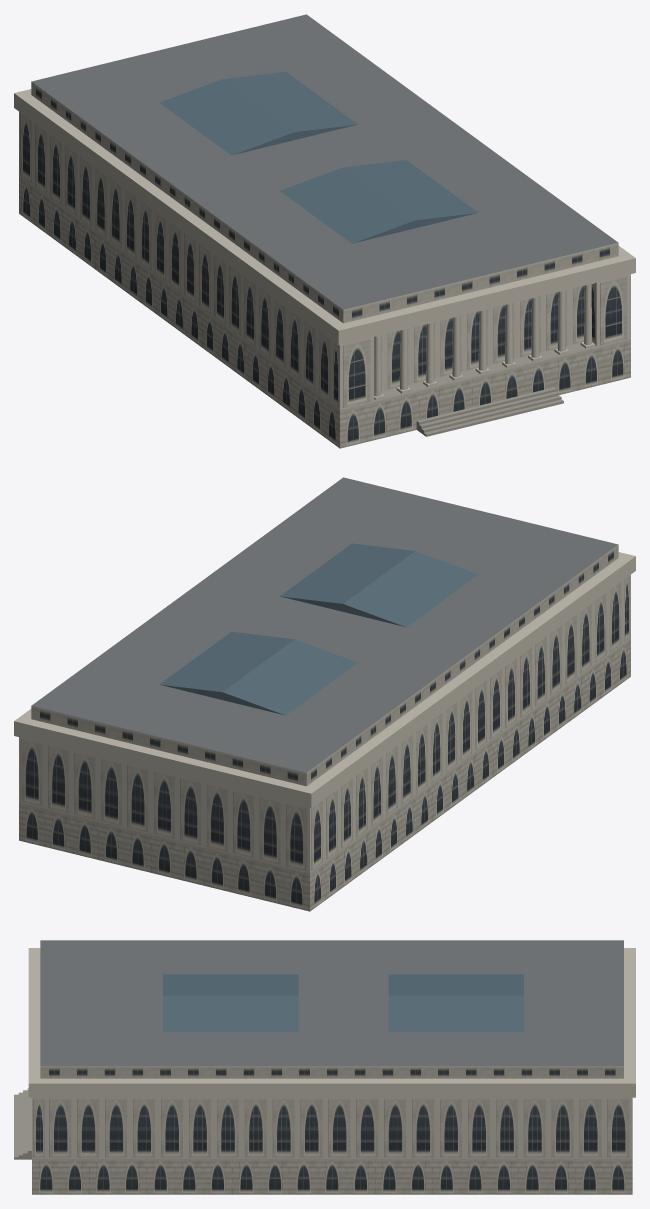
Rendered from asian_art_museum.glb.
The picture shows the model from 3 angles, top to bottom: view 1: azimuth 30°, elevation 25°; view 2: azimuth 150°, elevation 25°; view 3: azimuth 270°, elevation 25°; orthographic projection. The views are drawn at different scales.
Parts seen in each view (by area): view 1: asian_art_museum; view 2: asian_art_museum; view 3: asian_art_museum.
Boxes of the visible parts, x1=… form: asian_art_museum: x1=14, y1=14, x2=635, y2=448; asian_art_museum: x1=14, y1=477, x2=635, y2=911; asian_art_museum: x1=14, y1=940, x2=635, y2=1194.
Bounding box in the file's own units: 55 × 25 × 106.
Materials: 2 (2 with a texture image).
